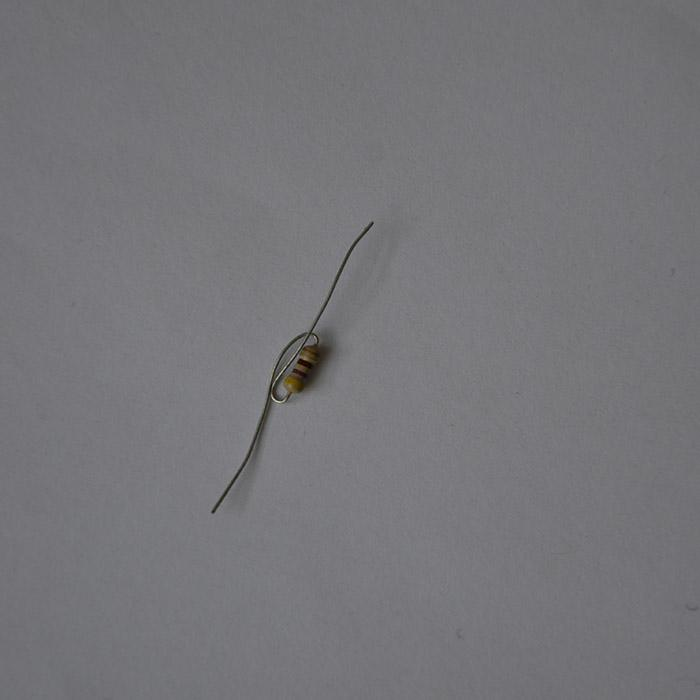resistor: (284, 342, 319, 395)
